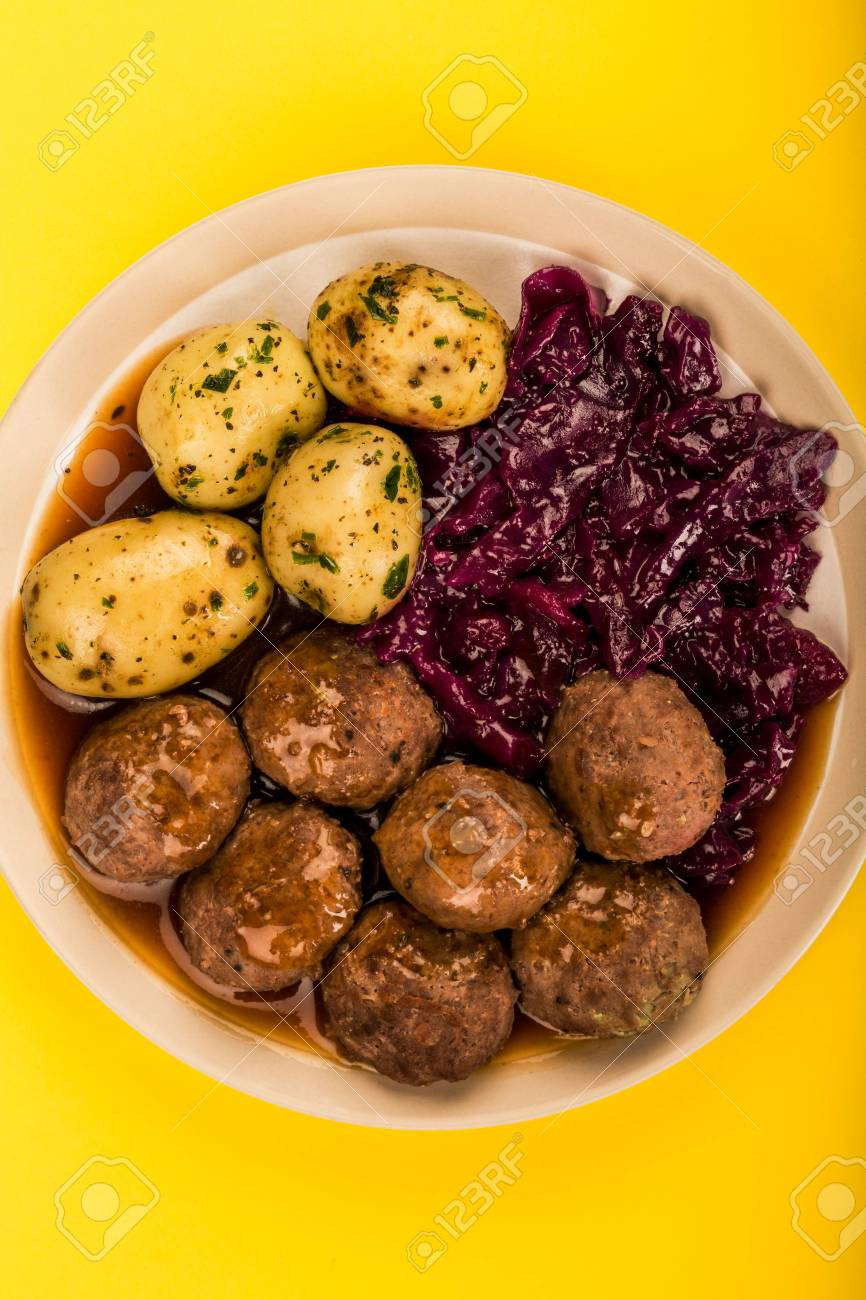boiled potatoes: (24, 526, 258, 691), (274, 416, 422, 619), (312, 269, 501, 426), (137, 327, 292, 512)
meatballs: (522, 866, 695, 1047), (556, 680, 723, 867), (76, 708, 237, 894), (180, 820, 359, 987), (377, 776, 555, 929), (256, 635, 423, 794), (341, 930, 501, 1083)
